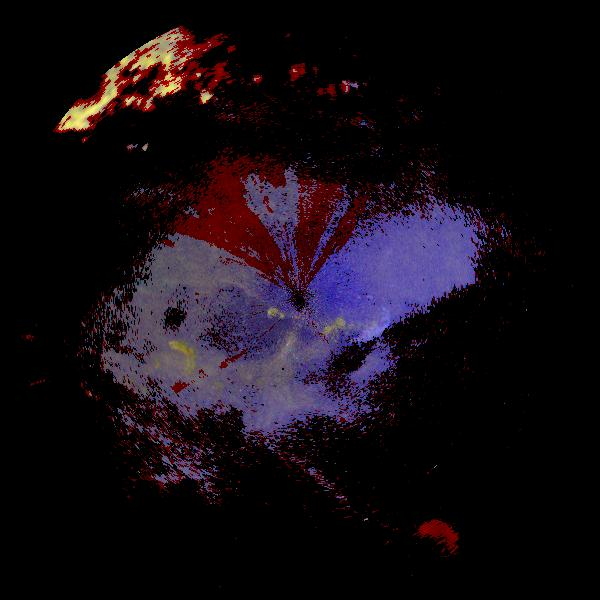roost: (115, 314, 217, 416), (404, 503, 473, 572)
